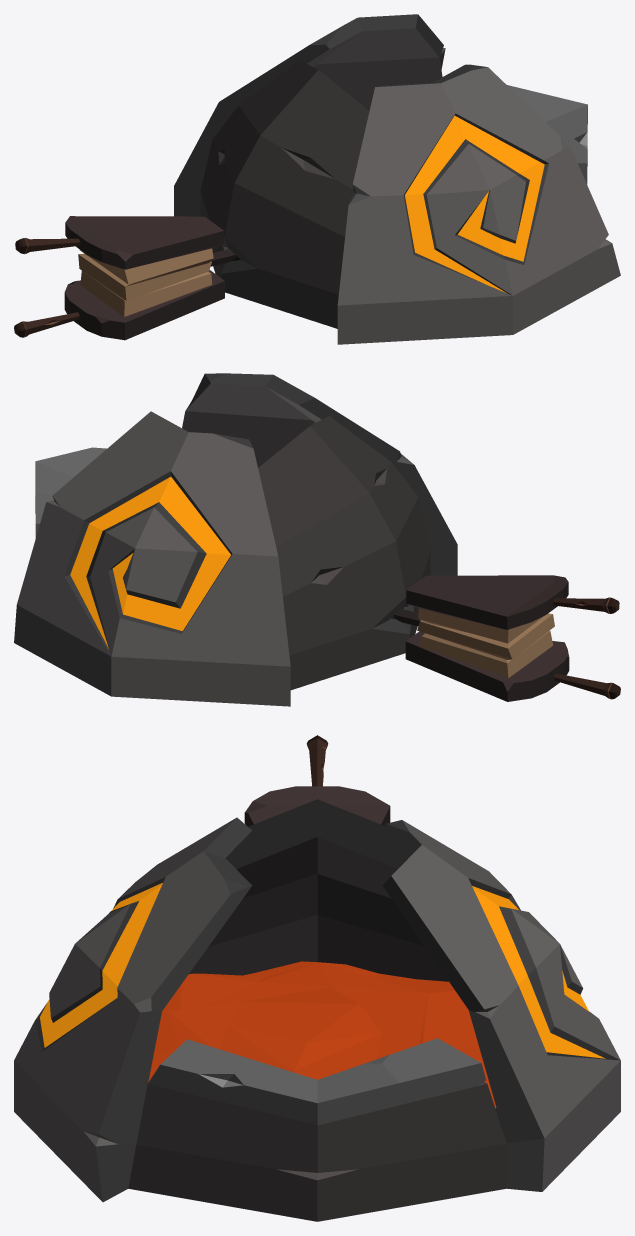
File: OvenSmith_01.glb
The picture shows the model from 3 angles, top to bottom: view 1: azimuth 30°, elevation 25°; view 2: azimuth 150°, elevation 25°; view 3: azimuth 270°, elevation 25°; orthographic projection. The views are drawn at different scales.
Parts seen in each view (by area): view 1: OvenSmith_01; view 2: OvenSmith_01; view 3: OvenSmith_01.
Boxes of the visible parts, x1=… form: OvenSmith_01: x1=14, y1=14, x2=620, y2=344; OvenSmith_01: x1=14, y1=373, x2=620, y2=706; OvenSmith_01: x1=14, y1=735, x2=620, y2=1221.
Size of what is drawn, in the model's own units: 4.24 by 1.44 by 2.97.
Materials: 2 (2 with a texture image).
